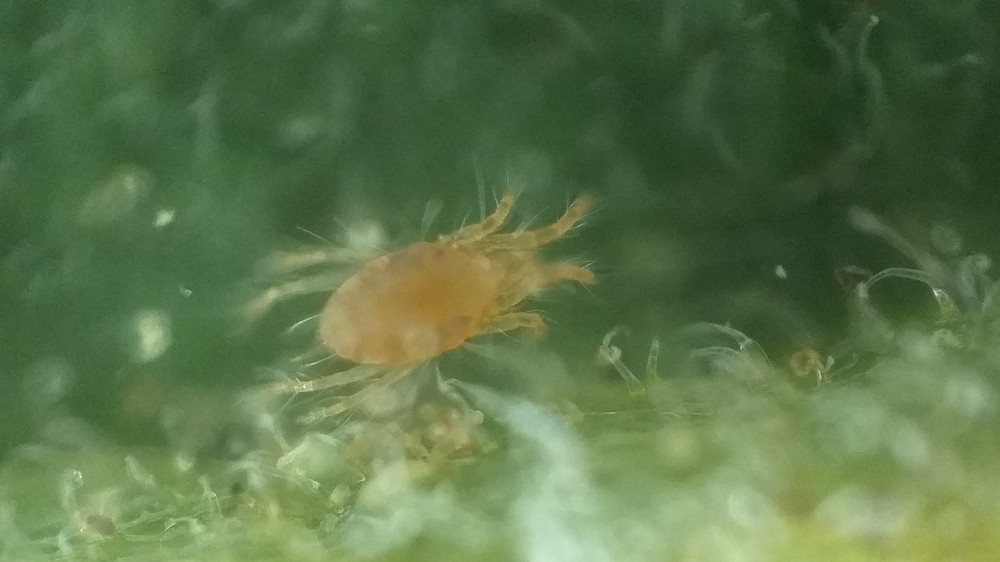Aracnido Rojo: (234, 162, 624, 436)
